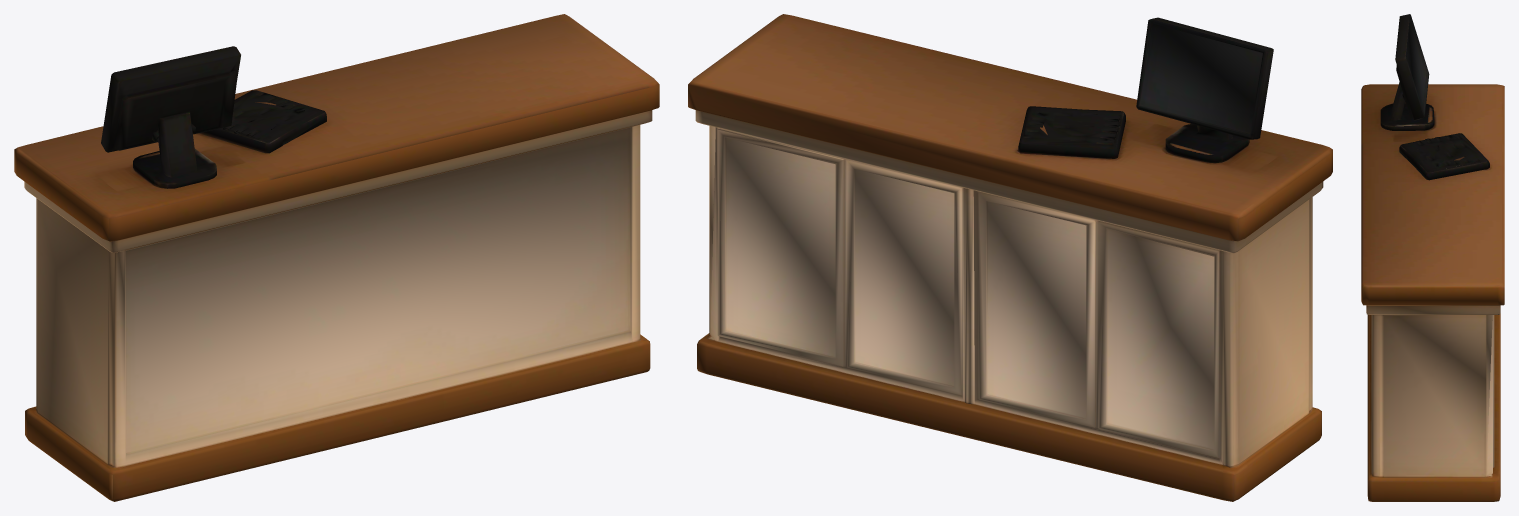
File: Furniture__shop_counter_f668a712_v1.cluster.glb
3 renders of one model, left to right at view 1: azimuth 30°, elevation 25°; view 2: azimuth 150°, elevation 25°; view 3: azimuth 270°, elevation 25°, orthographic. The views are drawn at different scales.
Visible parts, largest first — view 1: material; view 2: material; view 3: material.
Part boxes in pixels (x1,y1,x2,y2): material: (14, 14, 659, 501); material: (688, 14, 1332, 501); material: (1361, 14, 1504, 501).
Size of the model in its own units: 1.9 by 1.33 by 0.5683.
1 material, 1 textured.
